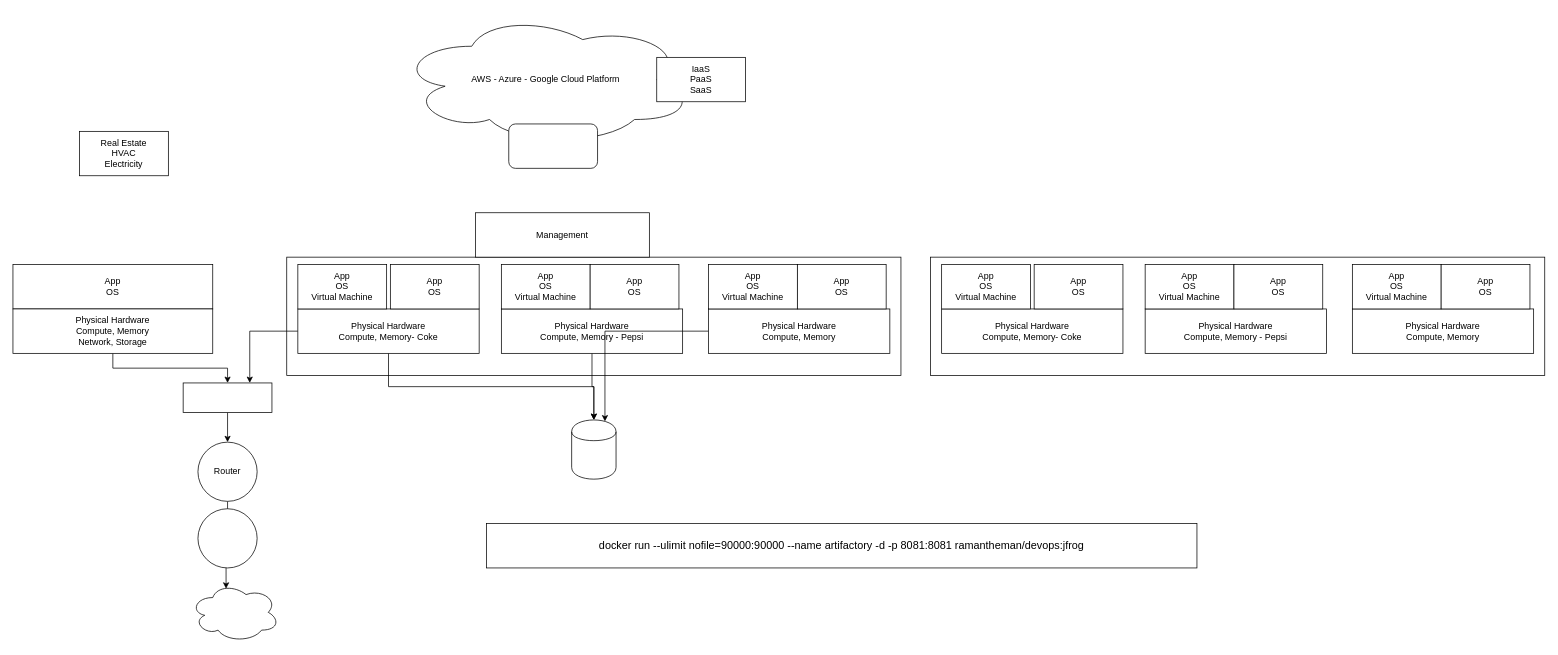
This 1558x655 diagram has some shape labels left out. Each missing label, with the box of its shape:
Firewall: (197, 508, 257, 568)
Internet: (190, 582, 279, 642)
Portal Tenancy: (508, 123, 598, 168)
Switch: (182, 382, 272, 413)
